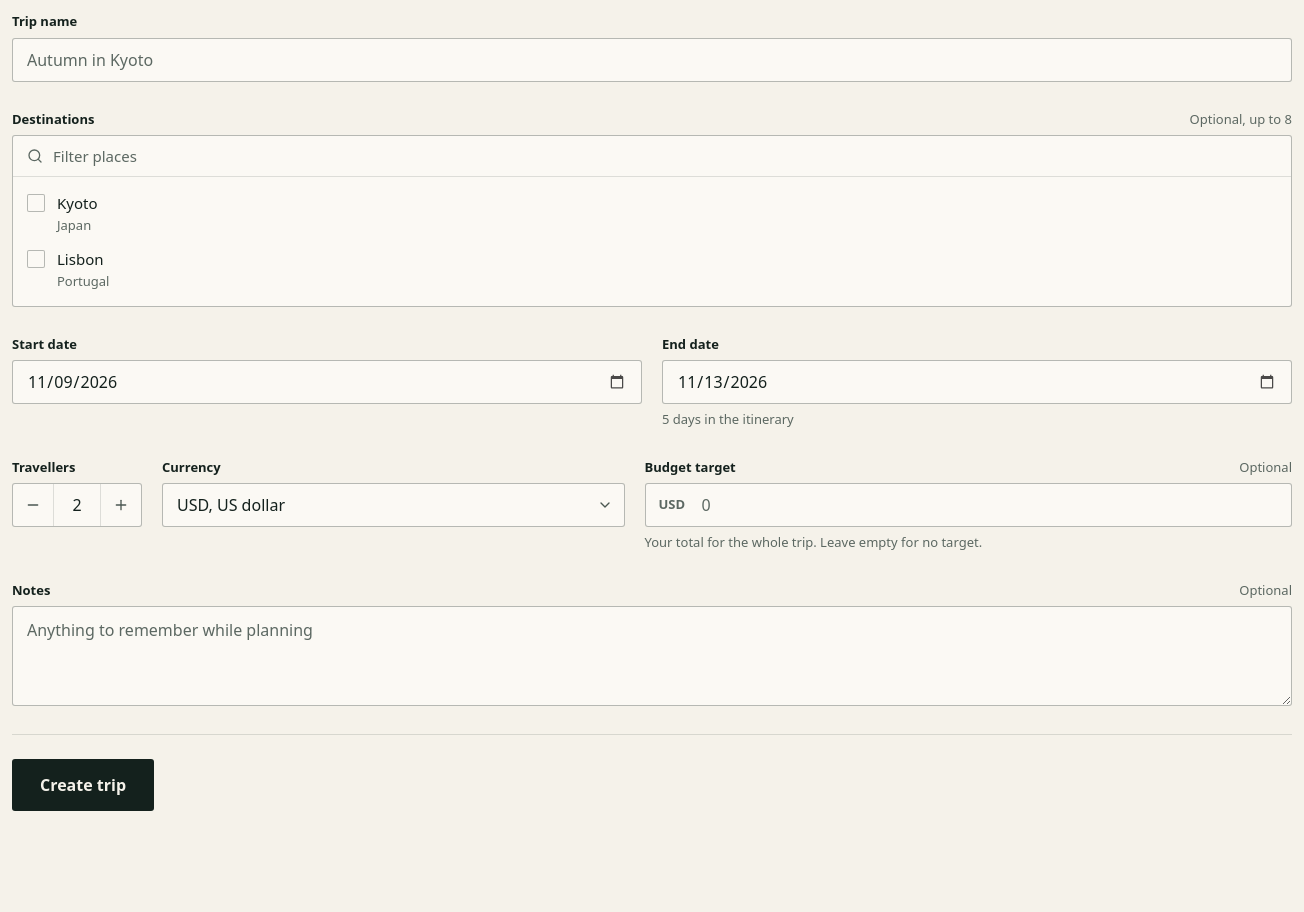
it: trip form › shows server field errors next to the right field
Step 1. Type "Somewhere" into the field labelled "Trip name" → (652, 60), box [12,38,1292,82]
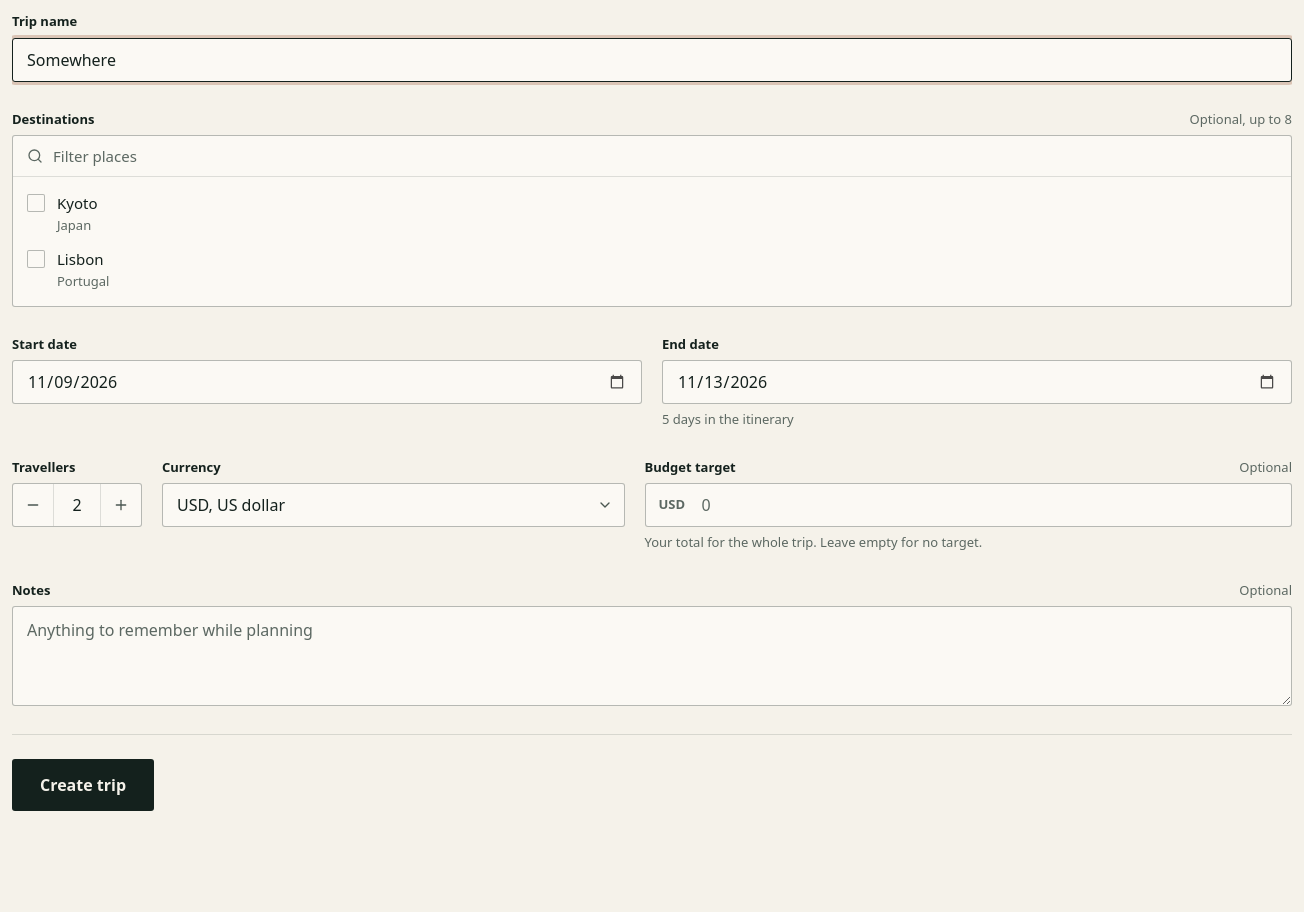
Step 2. Click the button "Create trip" → (83, 785), box [12,759,154,811]
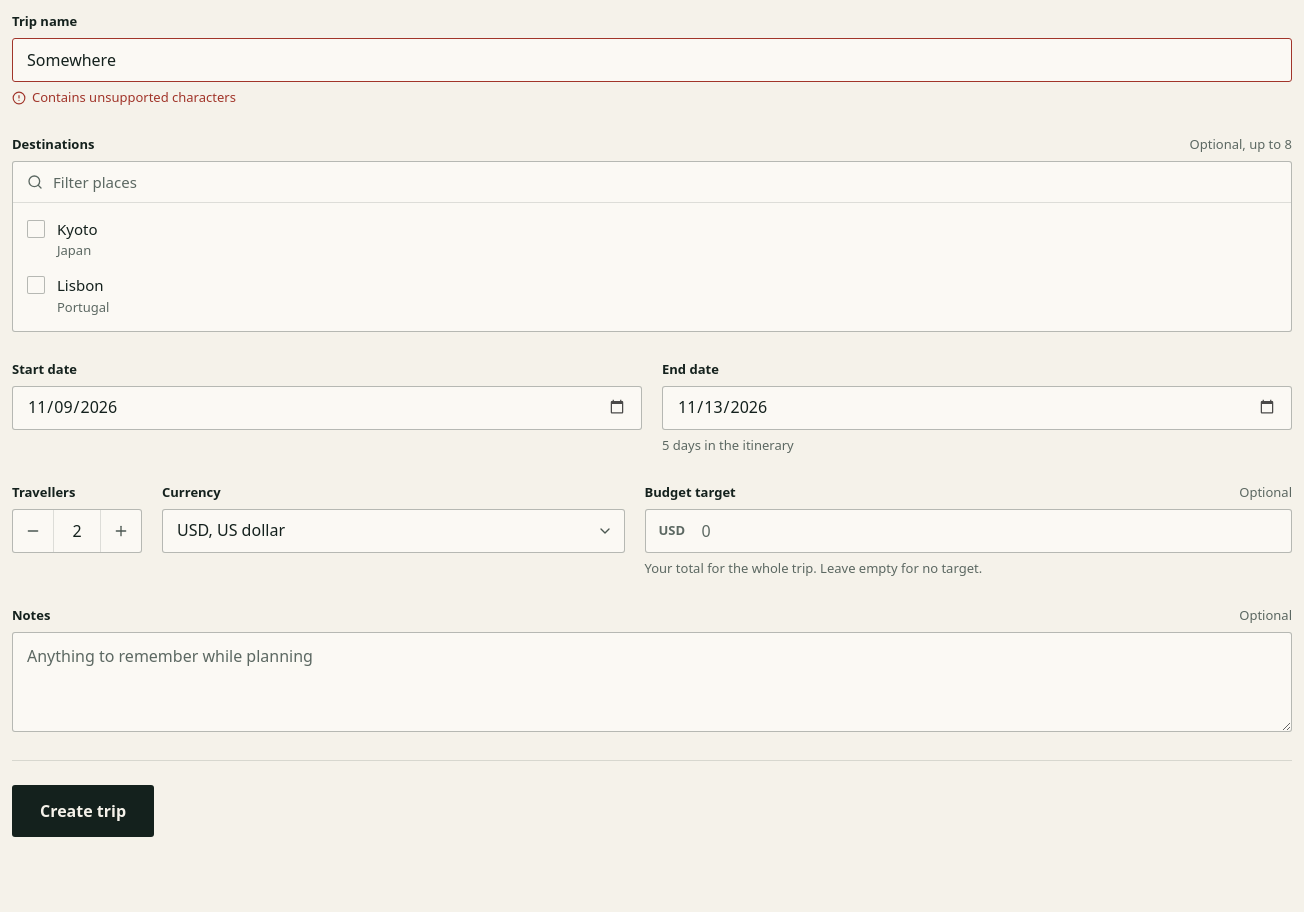
Now the text "Contains unsupported characters" is shown, box [32,88,236,107]
